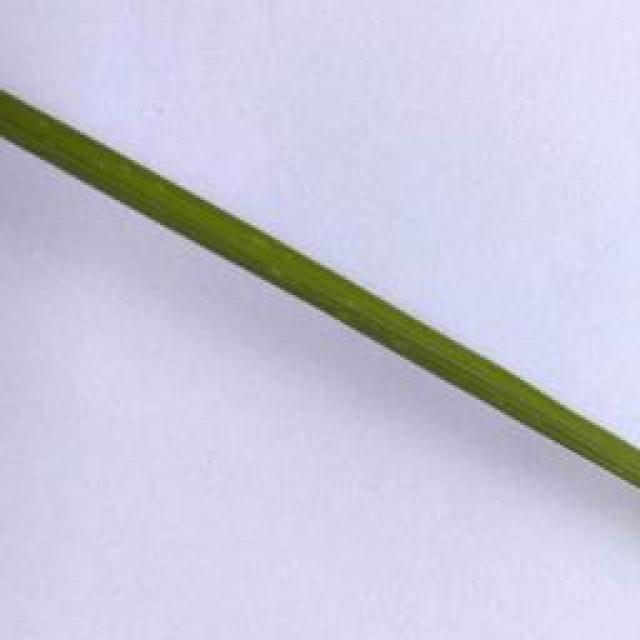Healthy-Plant: (0, 87, 640, 482)
